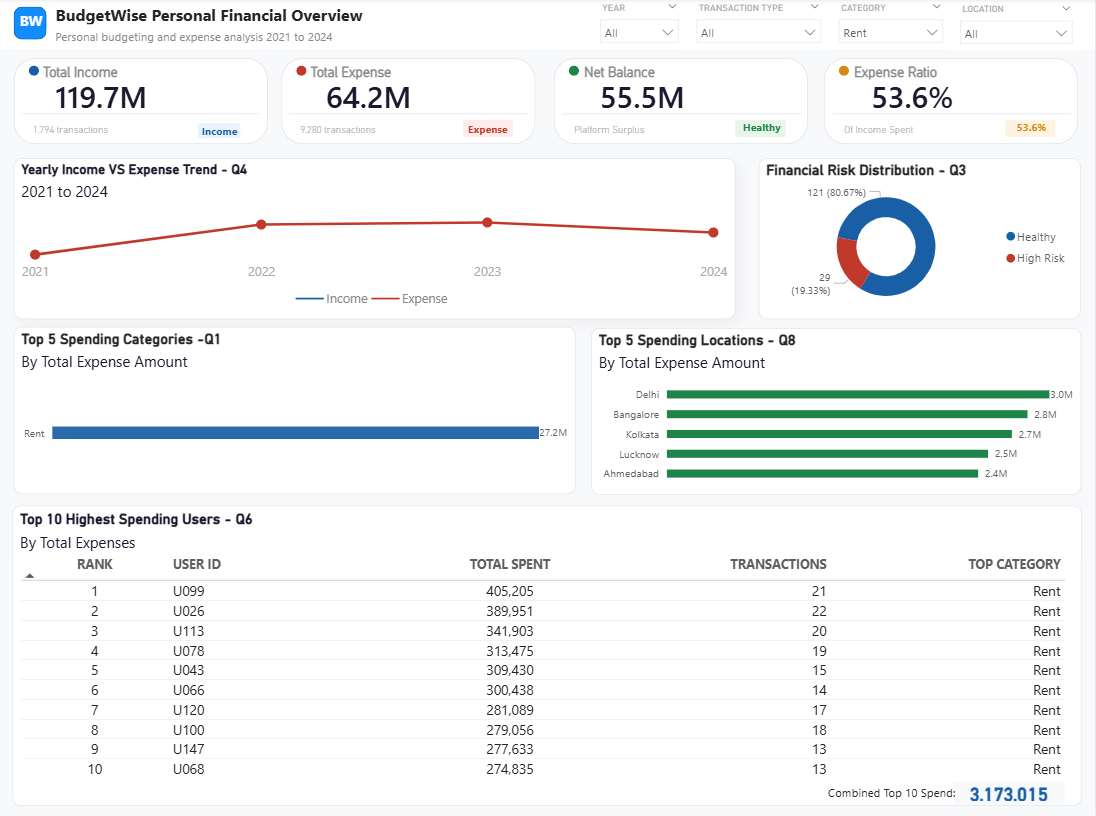

What the dashboard file says about the page in this screenshot:
{"tool":"powerbi","page":{"name":"BudgetWise Finance Analysis","canvas":[1270,950],"ordinal":0},"visuals":[{"type":"shape","box":[0,0,1439,60],"z":0,"group":"g6"},{"type":"lineChart","title":"Yearly Income VS Expense Trend - Q4","fields":{"Category":["public budgetwise_finance.year"],"Y":["public budgetwise_finance.Yearly Income","public budgetwise_finance.Yearly Expense"]},"box":[15.7,185.4,837.2,186.9],"z":0},{"type":"textbox","box":[60,2,388,37],"z":1000,"group":"g6"},{"type":"shape","box":[16,10,38,38],"z":1000,"group":"g7"},{"type":"shape","box":[16,69,295,100],"z":1000,"group":"g2"},{"type":"shape","box":[326,69,295,100],"z":1000,"group":"g3"},{"type":"shape","box":[956,69,295,100],"z":1000,"group":"g5"},{"type":"shape","box":[642,70,295,100],"z":1000,"group":"g4"},{"type":"donutChart","title":"Financial Risk Distribution - Q3","fields":{"Category":["Q3_Financial_Risk.financial_status"],"Y":["CountNonNull(Q3_Financial_Risk.user_id)"]},"box":[881.2,185.4,373.8,186.9],"z":1000},{"type":"textbox","box":[16,10,40,39],"z":2000,"group":"g7"},{"type":"textbox","box":[60,31,353,29],"z":2000,"group":"g6"},{"type":"clusteredBarChart","title":"Top 5 Spending Categories -Q1","fields":{"Category":["public budgetwise_finance.category"],"Y":["Sum(public budgetwise_finance.amount)"]},"box":[15.7,381.7,651.9,194.8],"z":2000},{"type":"slicer","title":"Year Slicer","fields":{"Values":["public budgetwise_finance.year"]},"box":[686.4,0,111.5,59.7],"z":3000,"group":"g6"},{"type":"card","title":"Total Income","fields":{"Values":["Q2_Income_vs_Expense.Total Income"]},"box":[45,75,145,59],"z":3000,"group":"g2"},{"type":"card","title":"Total Expense","fields":{"Values":["Q2_Income_vs_Expense.Total Expense"]},"box":[355,75,145,59],"z":3000,"group":"g3"},{"type":"card","title":"Expense Ratio","fields":{"Values":["Q2_Income_vs_Expense.Expense Ratio"]},"box":[986,75,145,59],"z":3000,"group":"g5"},{"type":"card","title":"Net Balance","fields":{"Values":["Q2_Income_vs_Expense.Net Balance"]},"box":[672,76,145,59],"z":3000,"group":"g4"},{"type":"clusteredBarChart","title":"Top 5 Spending Locations - Q8","fields":{"Category":["public budgetwise_finance.location"],"Y":["Sum(public budgetwise_finance.amount)"]},"box":[686.4,383.3,568.6,193.2],"z":3000},{"type":"slicer","title":"Type Slicer","fields":{"Values":["public budgetwise_finance.transaction_type"]},"box":[798,0,164.9,59.7],"z":4000,"group":"g6"},{"type":"group","id":"g1","title":"Group 2","box":[14.1,589,1240.9,362.1],"z":4000},{"type":"slicer","title":"Location Slicer","fields":{"Values":["public budgetwise_finance.location"]},"box":[1104.3,1.6,150.8,59.7],"z":5000,"group":"g6"},{"type":"group","id":"g2","title":"Group 3","box":[16,69,295,102],"z":5000},{"type":"shape","box":[24.6,128.8,277.8,10.3],"z":5000,"group":"g2"},{"type":"shape","box":[334.6,128.8,277.8,10.3],"z":5000,"group":"g3"},{"type":"shape","box":[965.6,128.8,277.8,10.3],"z":5000,"group":"g5"},{"type":"shape","box":[651.6,129.8,277.8,10.3],"z":5000,"group":"g4"},{"type":"group","id":"g3","title":"Group 3","box":[326,69,295,100],"z":6000},{"type":"group","id":"g4","title":"Group 3","box":[642,70,295,100],"z":7000},{"type":"textbox","box":[33.2,137.4,133,28.2],"z":7000,"group":"g2"},{"type":"textbox","box":[343.2,137.4,133,28.2],"z":7000,"group":"g3"},{"type":"textbox","box":[974.2,137.4,133,28.2],"z":7000,"group":"g5"},{"type":"textbox","box":[660.2,138.4,133,28.2],"z":7000,"group":"g4"},{"type":"group","id":"g5","title":"Group 3","box":[956,69,295,100],"z":8000},{"type":"group","id":"g6","title":"Group 4","box":[0,0,1439,61.3],"z":9000},{"type":"slicer","fields":{"Values":["public budgetwise_finance.category"]},"box":[962.9,0,141.4,61.3],"z":12000,"group":"g6"},{"type":"group","id":"g7","title":"Group 1","box":[16,10,40,39],"z":13000,"group":"g6"},{"type":"tableEx","title":"Top 10 Highest Spending Users - Q6","fields":{"Values":["public budgetwise_finance.Top 10 Rank","public budgetwise_finance.user_id","public budgetwise_finance.Total Spent Per User","public budgetwise_finance.Total Transactions","public budgetwise_finance.Top Category"]},"box":[14.1,589,1240.9,348.7],"z":17000,"group":"g1"},{"type":"card","fields":{"Values":["public budgetwise_finance.Top 10 Combined Total"]},"box":[1107.1,909.4,128.8,26.7],"z":18000,"group":"g1"},{"type":"textbox","box":[955.9,891.1,166.1,59.9],"z":18500,"group":"g1"},{"type":"shape","box":[33,77,12,12],"z":20000,"group":"g2"},{"type":"shape","box":[343,77,12,12],"z":20000,"group":"g3"},{"type":"shape","box":[974,77,12,12],"z":20000,"group":"g5"},{"type":"shape","box":[660,78,12,12],"z":20000,"group":"g4"},{"type":"shape","box":[536,140,59,21],"z":21000,"group":"g3"},{"type":"shape","box":[1167,140,59,21],"z":21000,"group":"g5"},{"type":"shape","box":[853,141,59,21],"z":21000,"group":"g4"},{"type":"shape","box":[229,145,50,18],"z":21000,"group":"g2"},{"type":"textbox","box":[1175,135,54,32],"z":22000,"group":"g5"},{"type":"textbox","box":[856,136,54,32],"z":22000,"group":"g4"},{"type":"textbox","box":[538,137,57,32],"z":22000,"group":"g3"},{"type":"textbox","box":[229,139,55,32],"z":22000,"group":"g2"}]}

Visuals, with their boxes in screenshot pixels (x1, y1, x2, y2), scaled from the page's 1270x950 canvas onto the 1096x816 screenshot:
shape: 0 0 1095 52
"Yearly Income VS Expense Trend - Q4" lineChart: 14 159 736 320
textbox: 52 2 387 33
shape: 14 9 47 41
shape: 14 59 268 145
shape: 281 59 536 145
shape: 825 59 1080 145
shape: 554 60 809 146
"Financial Risk Distribution - Q3" donutChart: 760 159 1083 320
textbox: 14 9 48 42
textbox: 52 27 356 52
"Top 5 Spending Categories -Q1" clusteredBarChart: 14 328 576 495
"Year Slicer" slicer: 592 0 689 51
"Total Income" card: 39 64 164 115
"Total Expense" card: 306 64 431 115
"Expense Ratio" card: 851 64 976 115
"Net Balance" card: 580 65 705 116
"Top 5 Spending Locations - Q8" clusteredBarChart: 592 329 1083 495
"Type Slicer" slicer: 689 0 831 51
"Group 2" group: 12 506 1083 815
"Location Slicer" slicer: 953 1 1083 53
"Group 3" group: 14 59 268 147
shape: 21 111 261 119
shape: 289 111 528 119
shape: 833 111 1073 119
shape: 562 111 802 120
"Group 3" group: 281 59 536 145
"Group 3" group: 554 60 809 146
textbox: 29 118 143 142
textbox: 296 118 411 142
textbox: 841 118 956 142
textbox: 570 119 685 143
"Group 3" group: 825 59 1080 145
"Group 4" group: 0 0 1095 53
slicer - public budgetwise_finance.category: 831 0 953 53
"Group 1" group: 14 9 48 42
"Top 10 Highest Spending Users - Q6" tableEx: 12 506 1083 805
card - public budgetwise_finance.Top 10 Combined Total: 955 781 1067 804
textbox: 825 765 968 815
shape: 28 66 39 76
shape: 296 66 306 76
shape: 841 66 851 76
shape: 570 67 580 77
shape: 463 120 513 138
shape: 1007 120 1058 138
shape: 736 121 787 139
shape: 198 125 241 140
textbox: 1014 116 1061 143
textbox: 739 117 785 144
textbox: 464 118 513 145
textbox: 198 119 245 147
